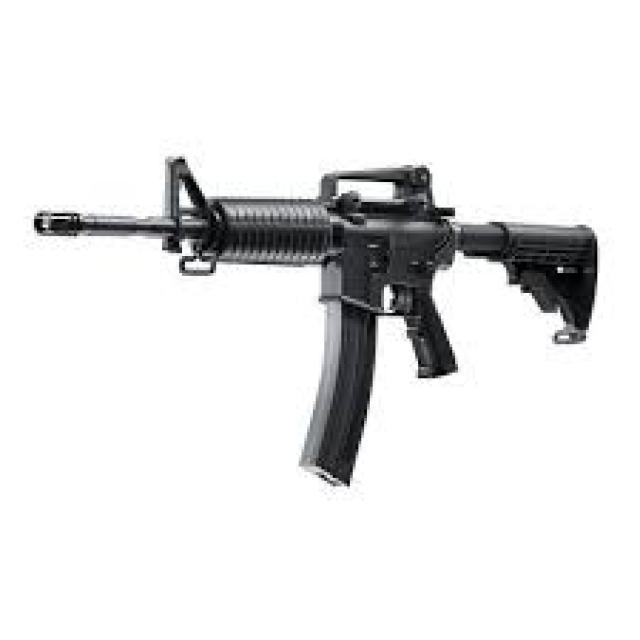rifle: (34, 143, 608, 507)
